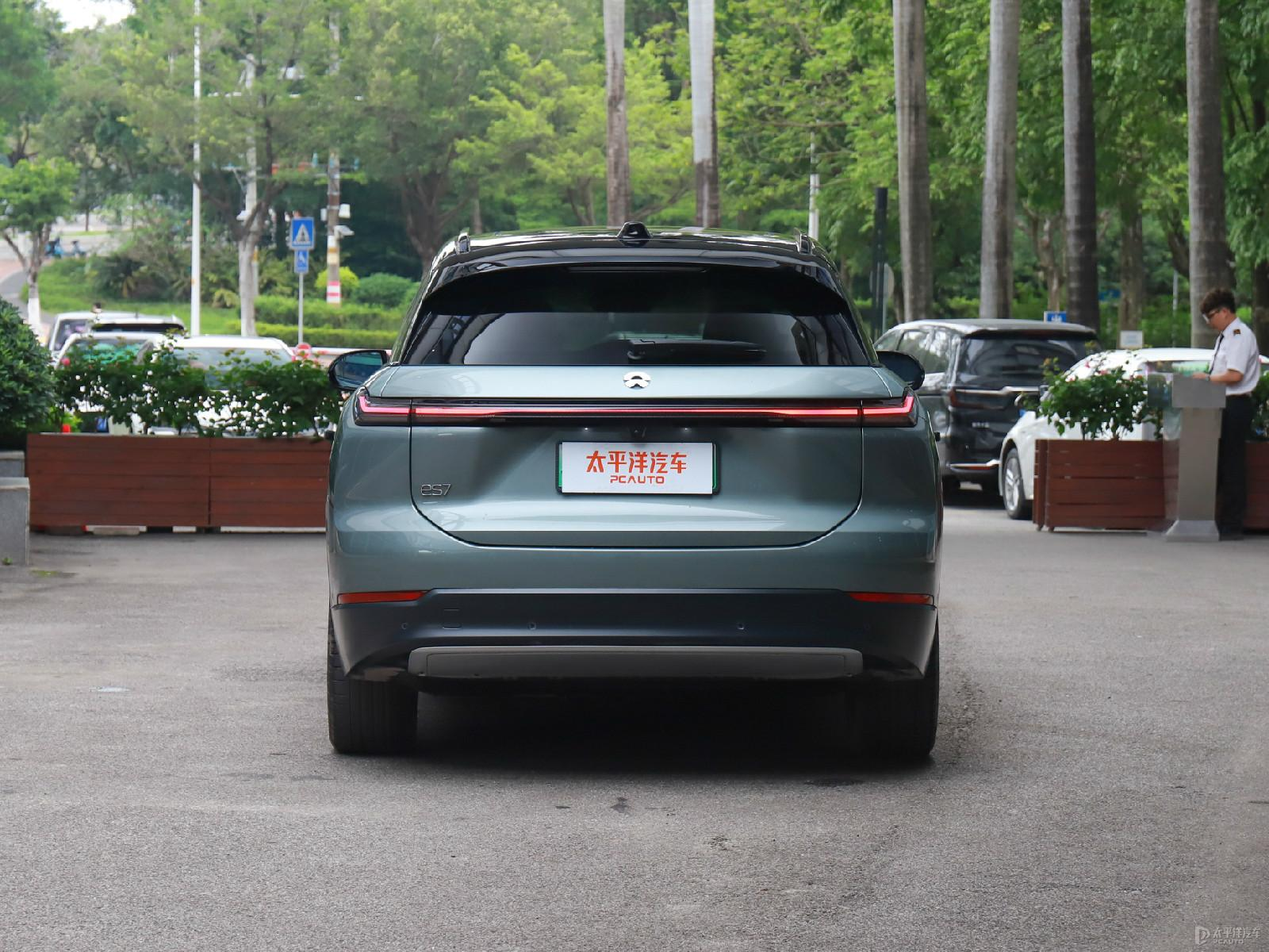NIO: (623, 370, 651, 388)
